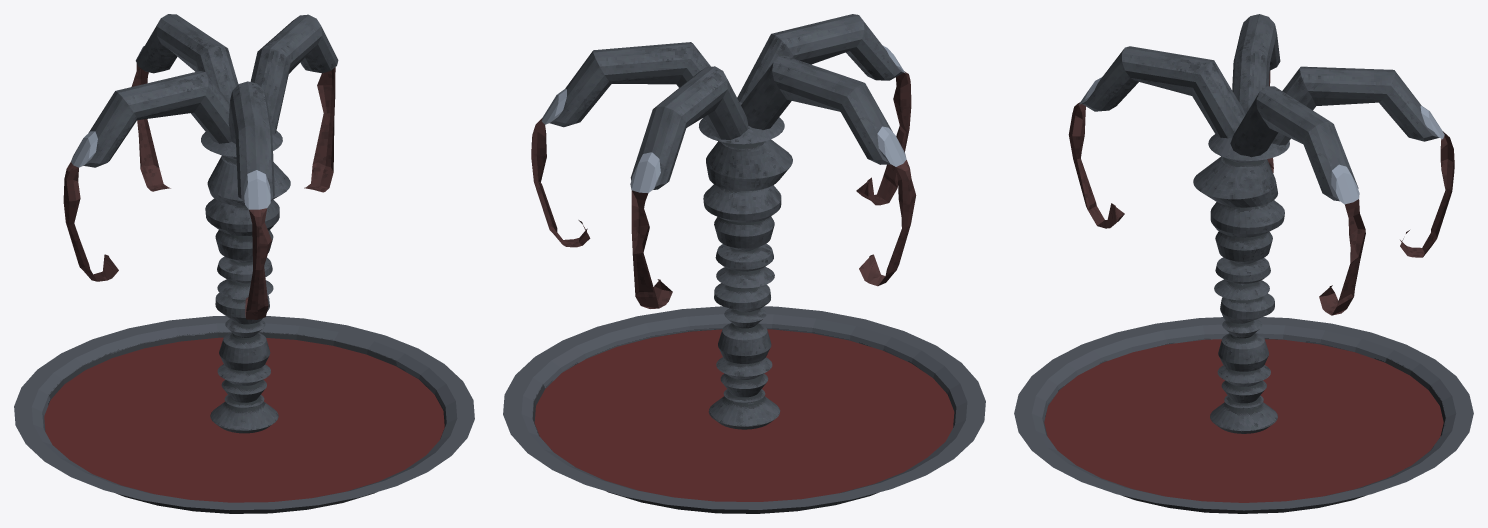
File: ritualtree.glb
3 renders of one model, left to right at view 1: azimuth 30°, elevation 25°; view 2: azimuth 150°, elevation 25°; view 3: azimuth 270°, elevation 25°, orthographic. The views are drawn at different scales.
Visible parts, largest first — view 1: Circle; view 2: Circle; view 3: Circle.
Part boxes in pixels (box(x1,y1,x2,y2)): Circle: box(14, 14, 474, 513); Circle: box(503, 14, 985, 513); Circle: box(1014, 14, 1473, 513).
Size of the model in its own units: 13.93 by 12.14 by 13.93.
Materials: 5 (5 with a texture image).
